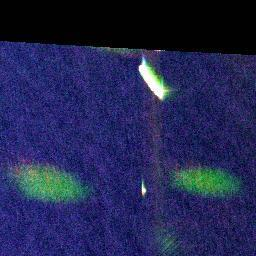Ship: (137, 59, 169, 102), (138, 179, 149, 197)
